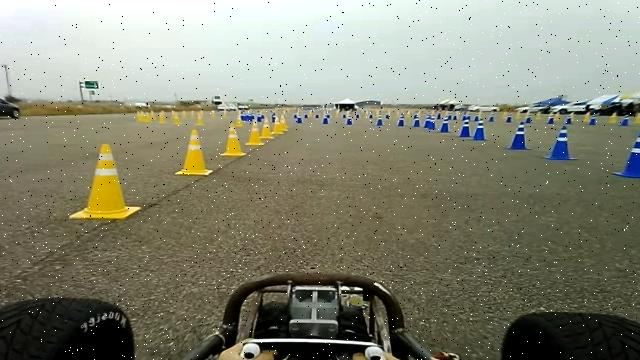blue cone: (612, 131, 640, 178), (543, 125, 578, 160), (506, 121, 532, 150), (472, 117, 490, 140), (461, 114, 472, 136), (395, 109, 407, 128), (441, 113, 450, 133), (412, 111, 422, 129), (620, 111, 630, 126), (376, 110, 384, 128), (428, 113, 436, 130), (588, 110, 597, 125), (546, 108, 554, 124), (424, 113, 432, 129), (565, 111, 573, 124)
yellow cone: (69, 143, 142, 220), (175, 129, 213, 176), (220, 124, 247, 156), (246, 118, 265, 145), (268, 116, 286, 137), (272, 114, 289, 134), (260, 118, 274, 139), (280, 114, 289, 131), (609, 112, 618, 123), (583, 112, 591, 122), (634, 112, 640, 124), (554, 112, 562, 121), (536, 111, 542, 121)
